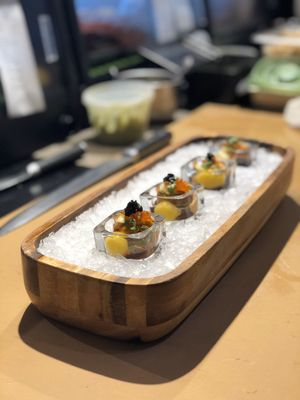sushi: (81, 78, 156, 146)
